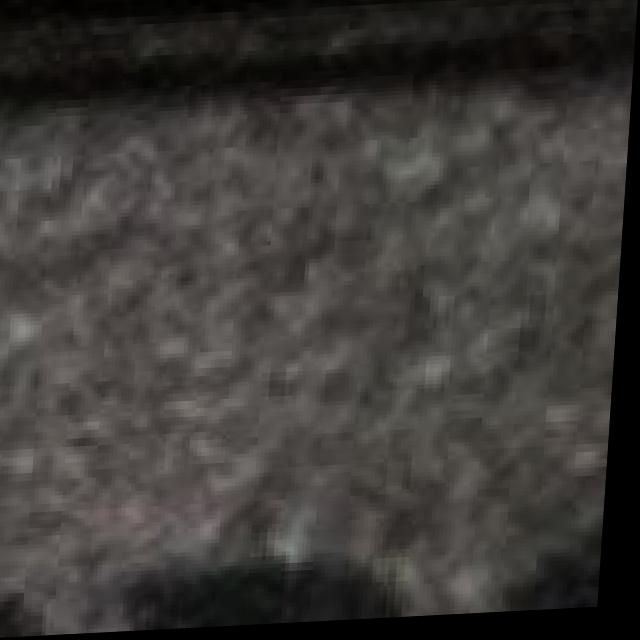inductor: (0, 14, 638, 640)
